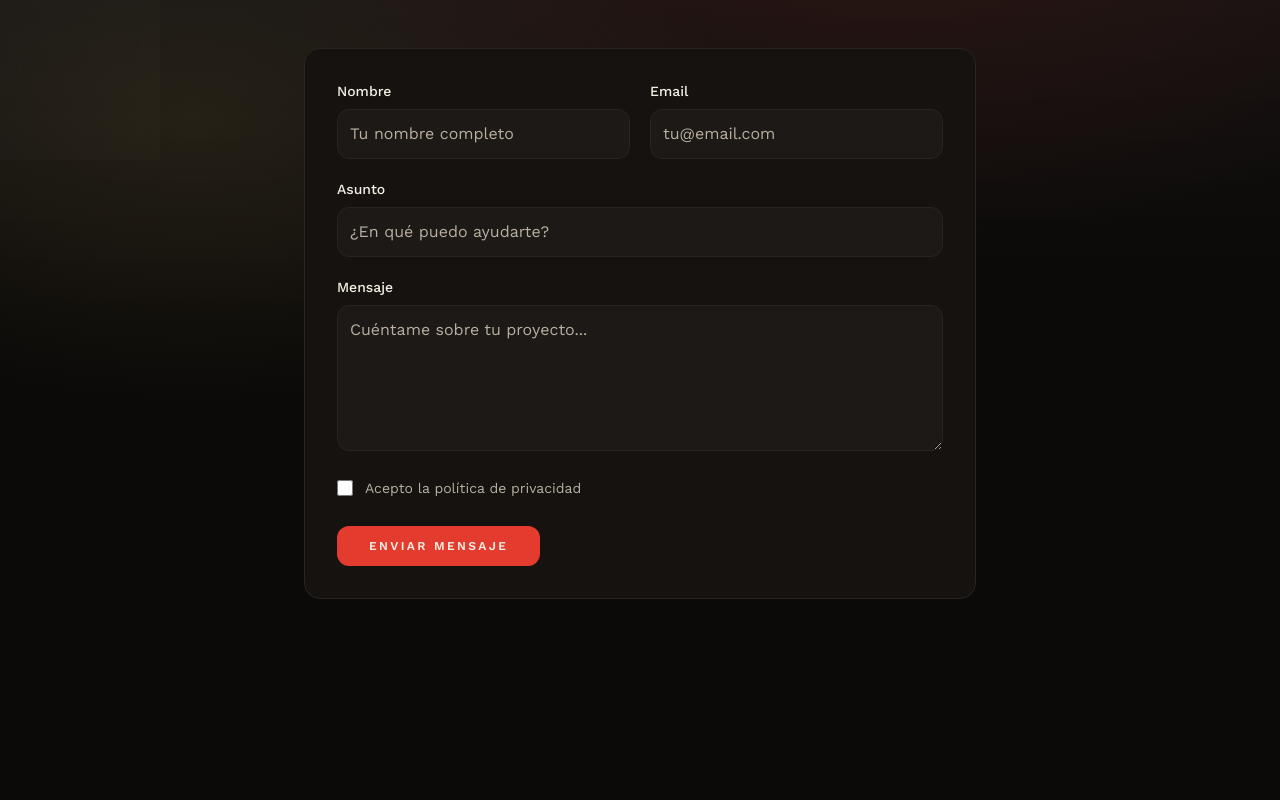
Test case: ContactFormPanel › real form (SMTP configured) › shows a localized generic error when the API responds with a failure
The width and height of the screenshot is (1280, 800).
Step 1. Type "Emmanuel Berrio" into the field labelled "Nombre" → (484, 134), box [337,109,630,159]
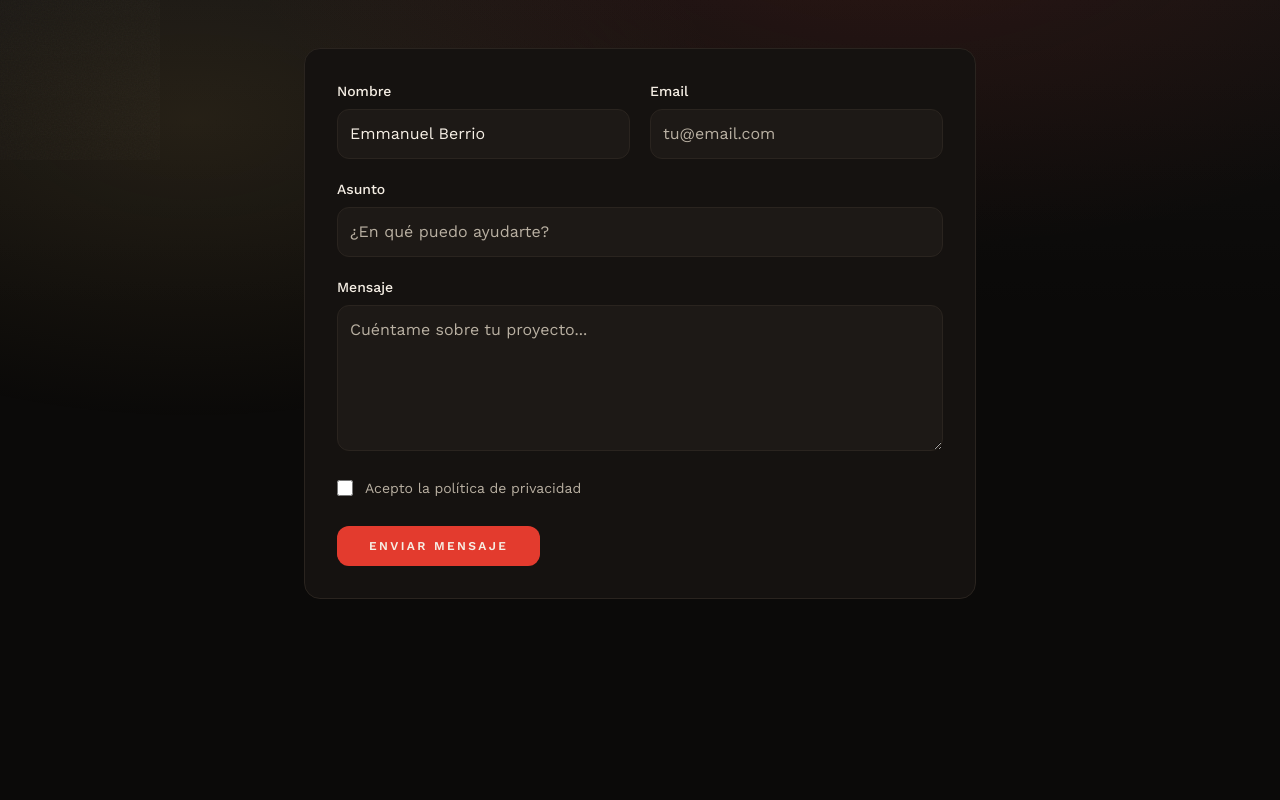
Step 2. Type "emmanuel@example.com" into the field labelled "Email" → (796, 134), box [650,109,943,159]
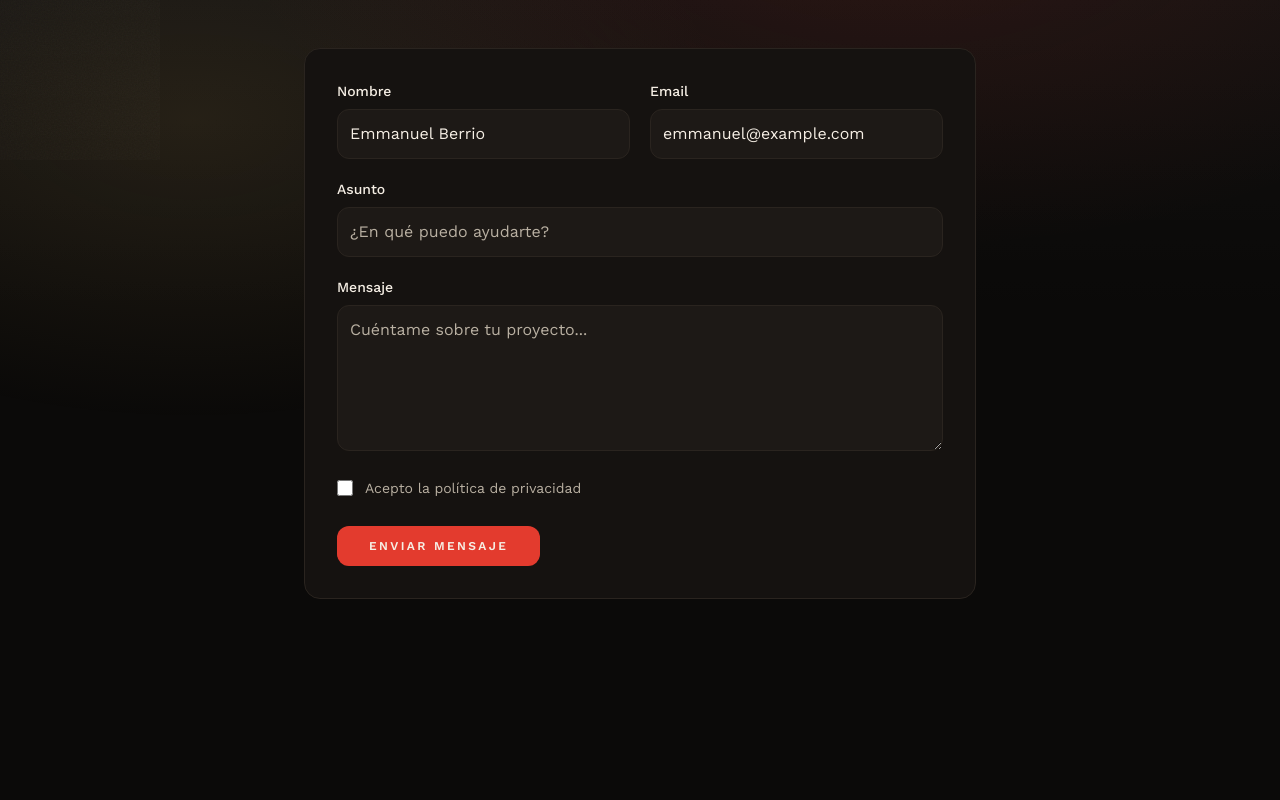
Step 3. Type "Me gustaría conversar sobre una vacante para tu equipo." into the text box labelled "Mensaje" → (640, 378), box [337,305,943,451]
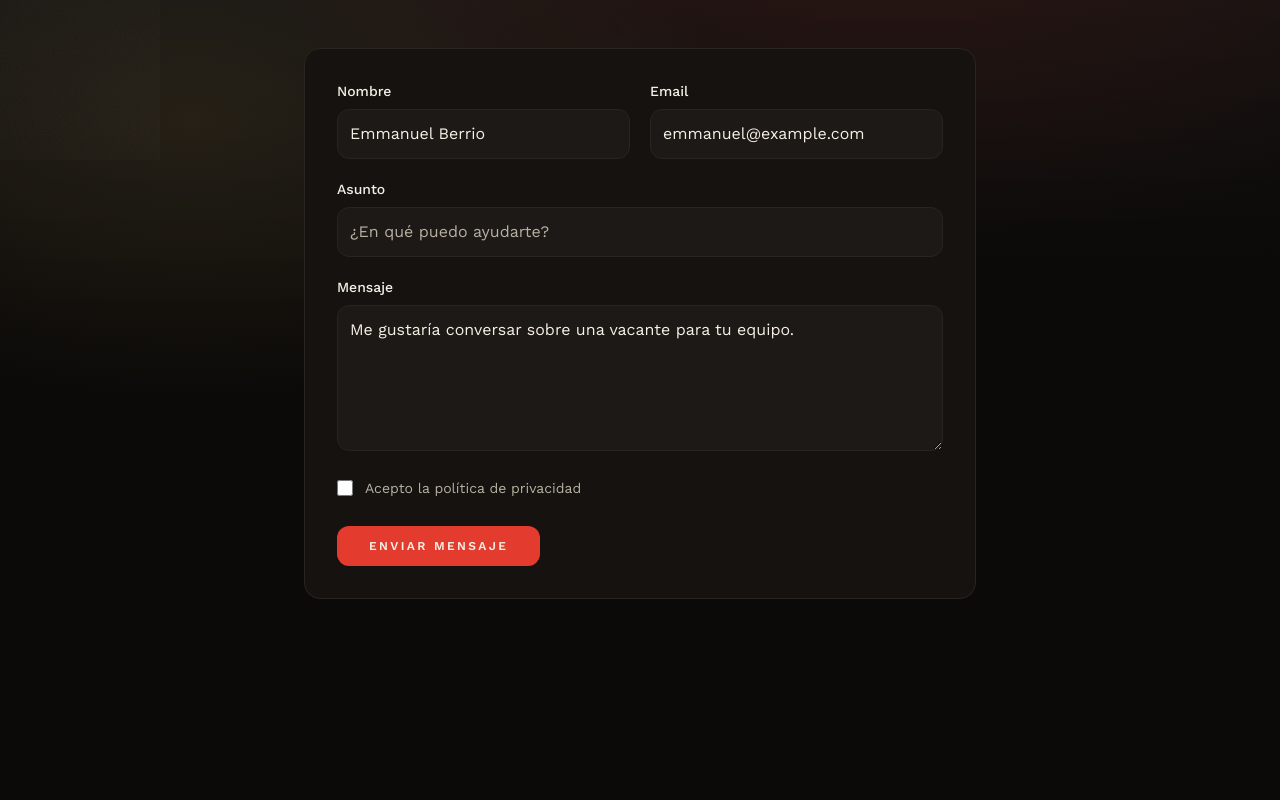
Step 4. Click the checkbox labelled "Acepto la política de privacidad" → (345, 488), box [337,480,353,496]
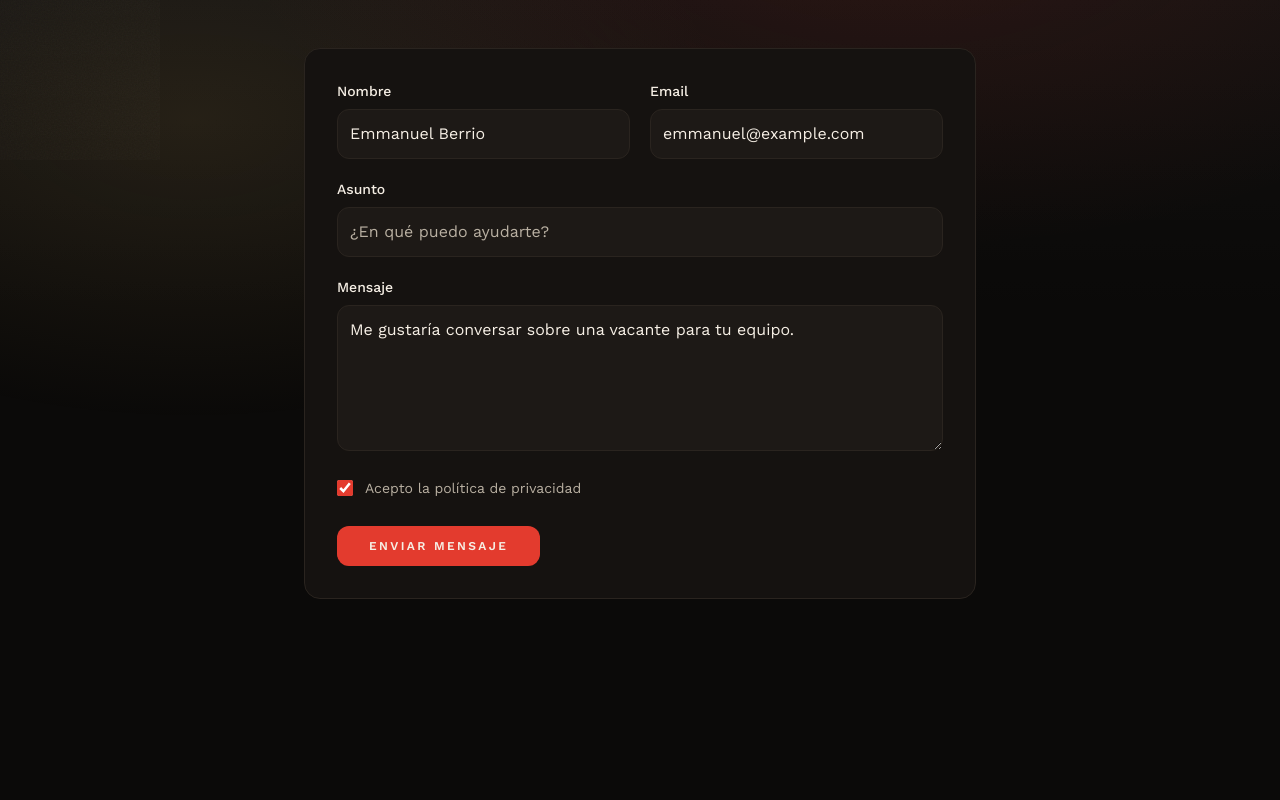
Step 5. Click the button "Enviar mensaje" → (439, 546), box [337,526,540,566]
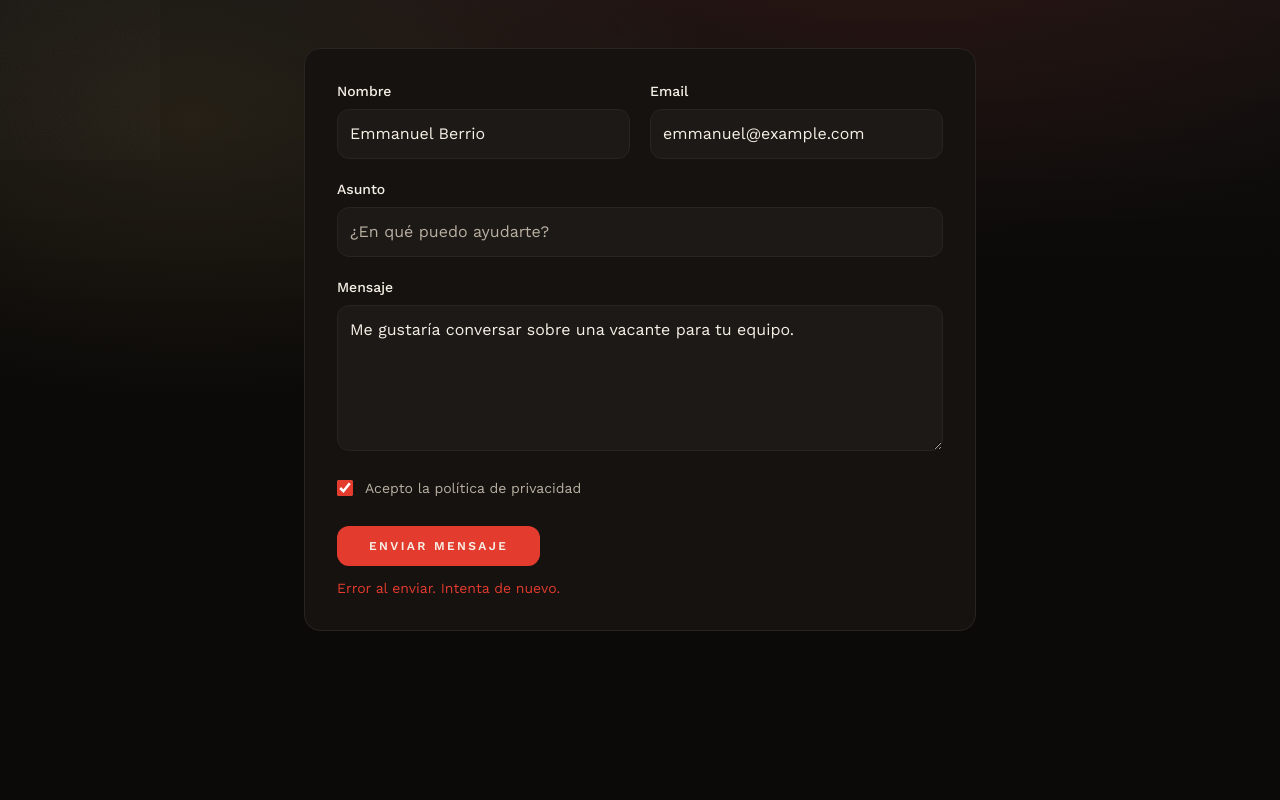
Now the text "Error al enviar. Intenta de nuevo." is shown, box [337,578,560,598]
